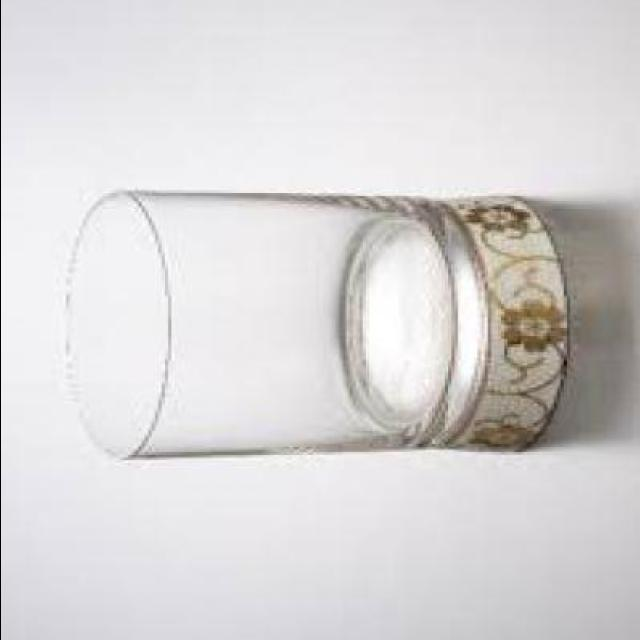kaca: (61, 188, 566, 455)
